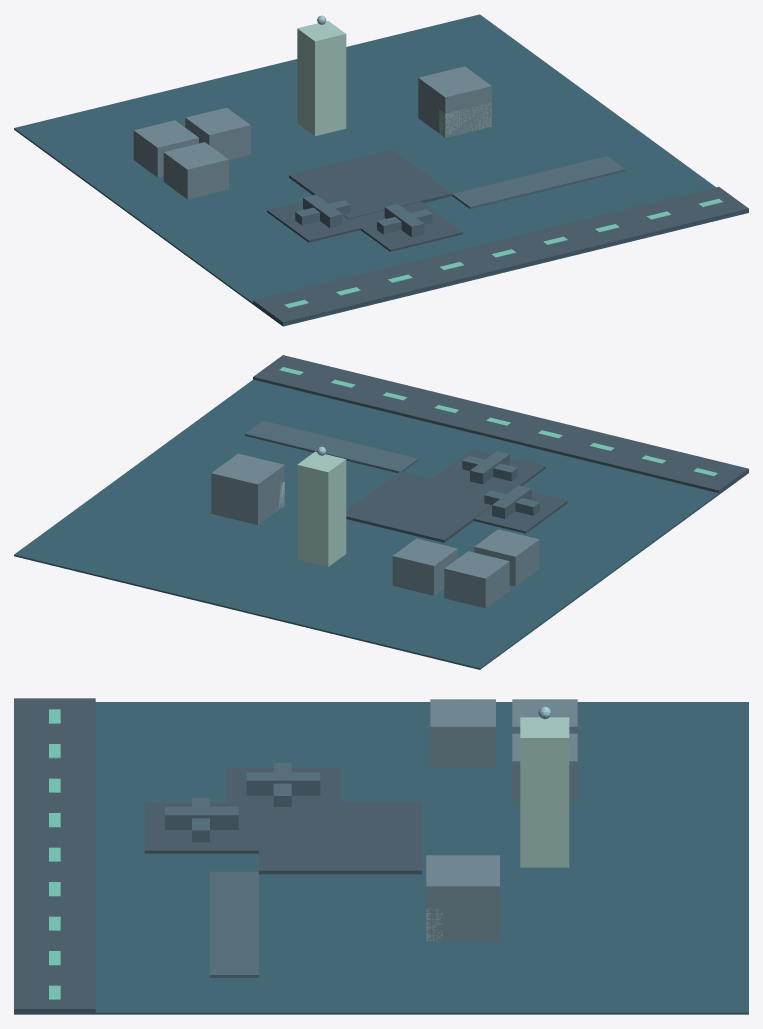
The model's file is stage_09.glb.
3 renders of one model, top to bottom at view 1: azimuth 30°, elevation 25°; view 2: azimuth 150°, elevation 25°; view 3: azimuth 270°, elevation 25°, orthographic. The views are drawn at different scales.
Parts seen in each view (by area): view 1: geometry_0; view 2: geometry_0; view 3: geometry_0.
Boxes of the visible parts, bbox=[...] form: geometry_0: bbox=[14, 14, 748, 326]; geometry_0: bbox=[14, 355, 748, 669]; geometry_0: bbox=[14, 698, 748, 1014].
Bounding box in the file's own units: 9 × 2.06 × 9.
